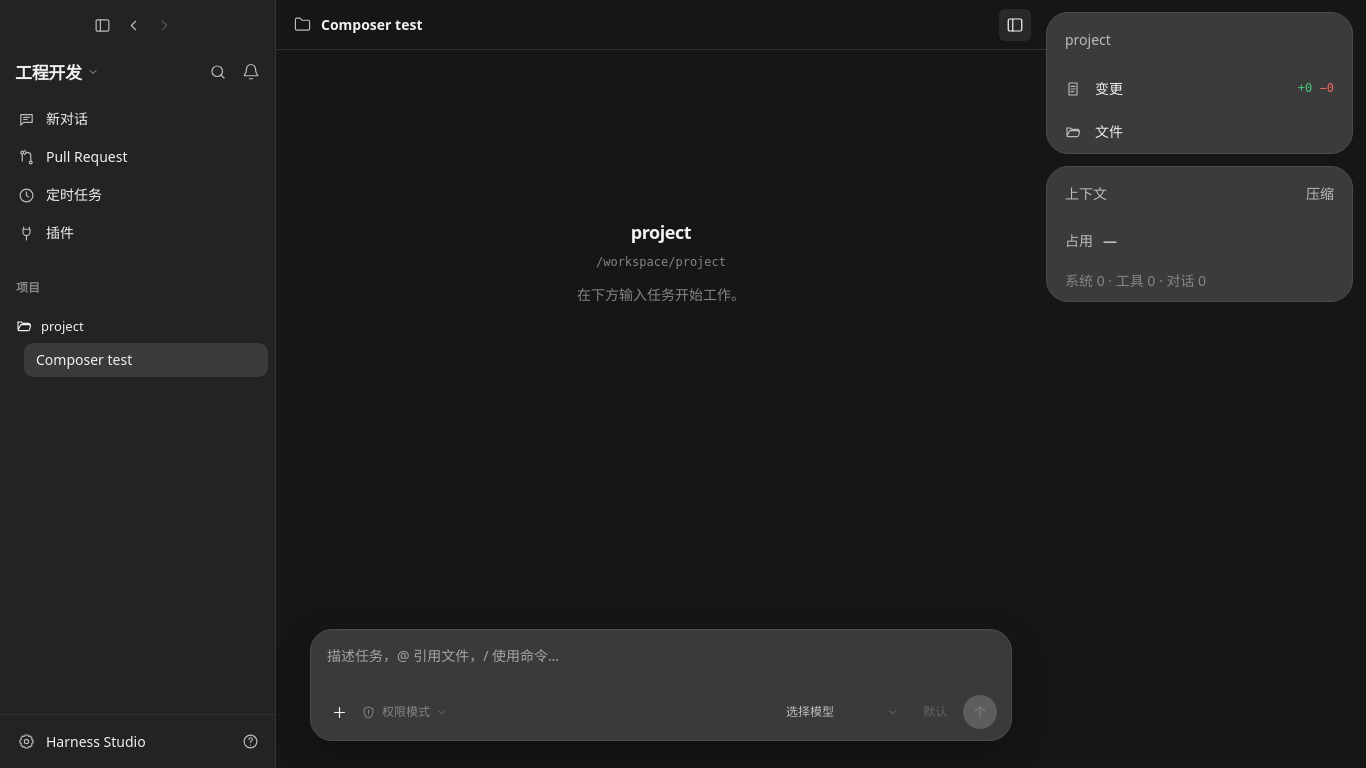
Test: structured composer entities › presents /goal as a composer mode and submits it through the Harness command
In the text box named "描述编程任务": (661, 667) [325,643,997,691], type "/goal"
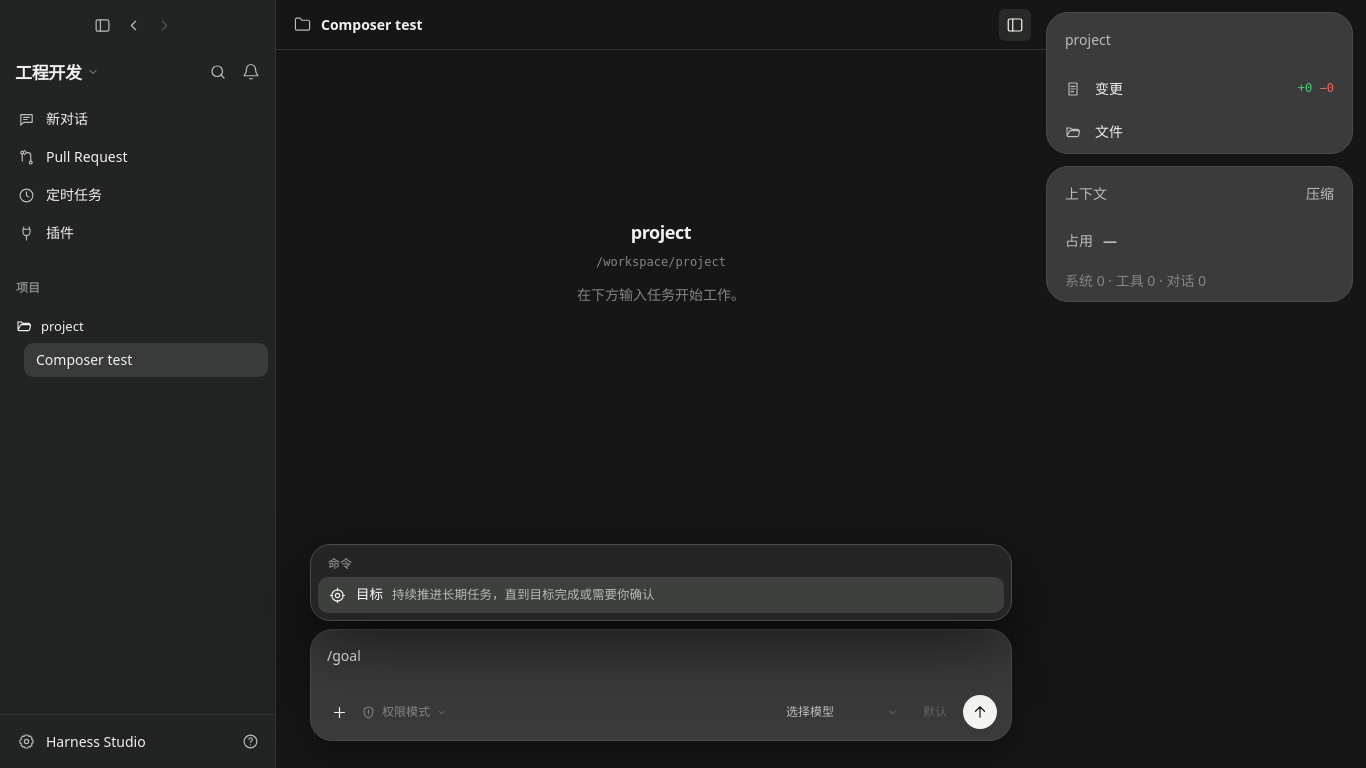
Click the option with aria-label "/goal": click(523, 595) [318,577,1004,613]
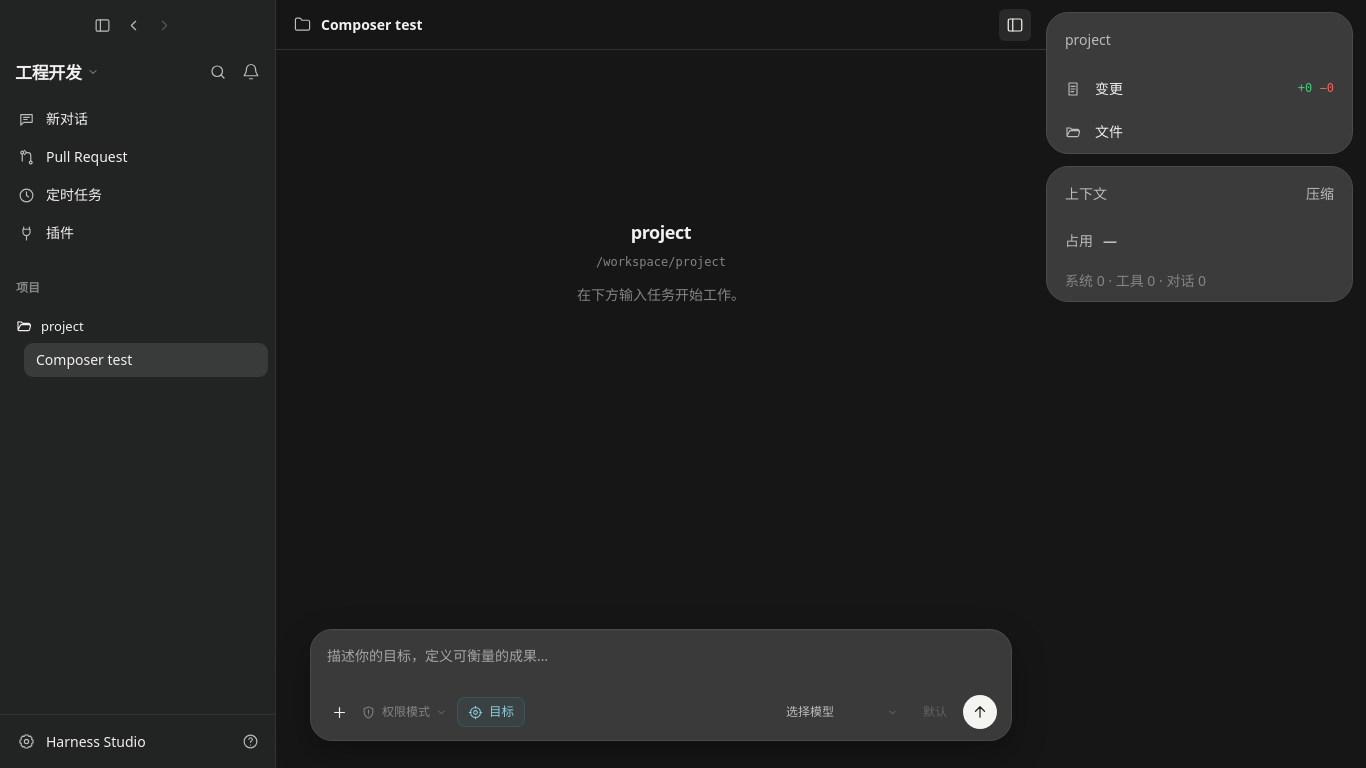
Expected: the button with aria-label "退出目标模式" is shown, [457,697,525,727]
Expected: the text box named "描述编程任务" is empty
In the text box named "描述编程任务": (661, 667) [325,643,997,691], type "完成发布准备"
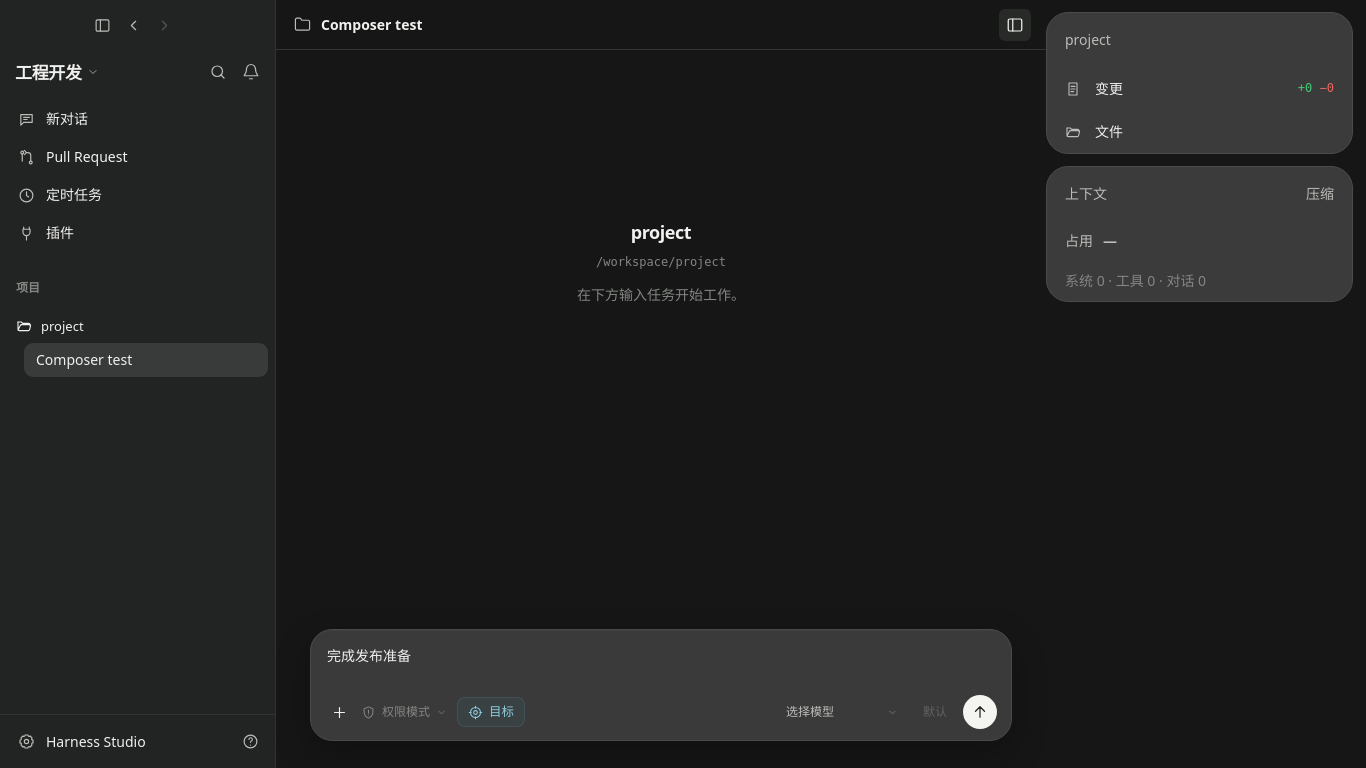
Click the button named "发送": click(980, 712) [963,695,997,729]
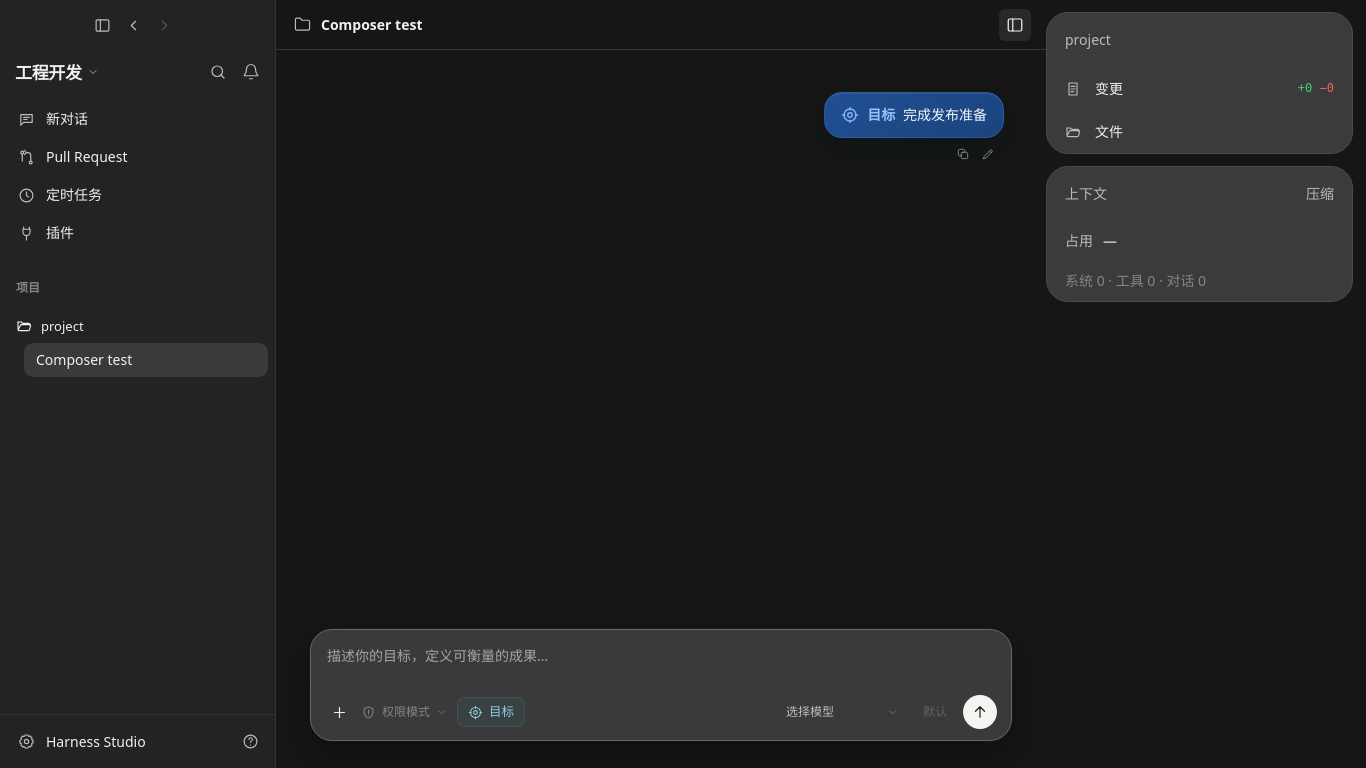
Expected: the button with aria-label "退出目标模式" is shown, [457,697,525,727]
Expected: the text "完成发布准备" is shown, [903,105,987,124]
